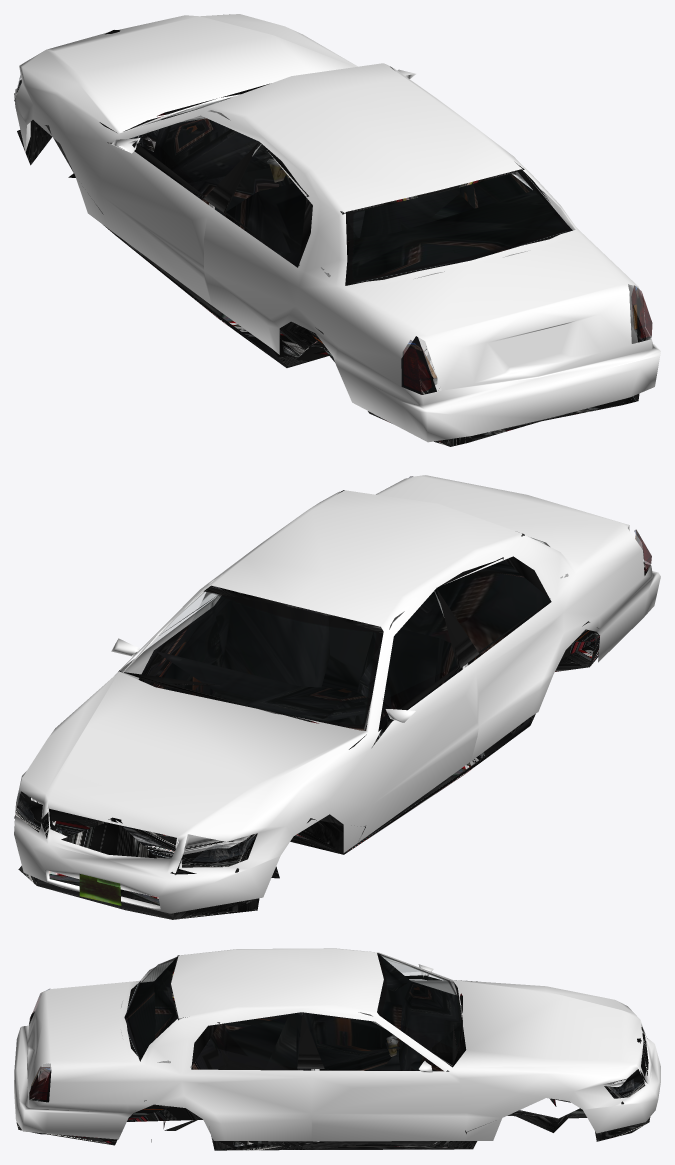
File: washington-lod.glb
3 views of the same model, one above another, from view 1: azimuth 30°, elevation 25°; view 2: azimuth 150°, elevation 25°; view 3: azimuth 270°, elevation 25° (orthographic). The views are drawn at different scales.
Size of the model in its own units: 2.08 by 1.23 by 5.42.
10 materials, 10 textured.
